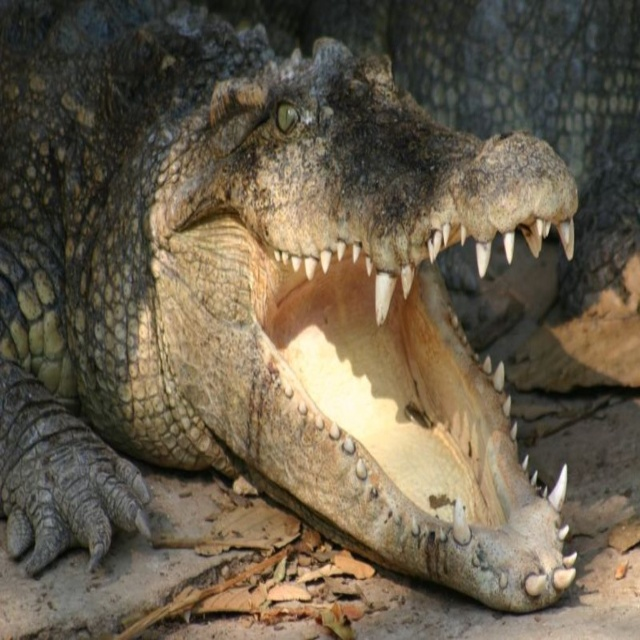Crocodile: (0, 0, 639, 617)
